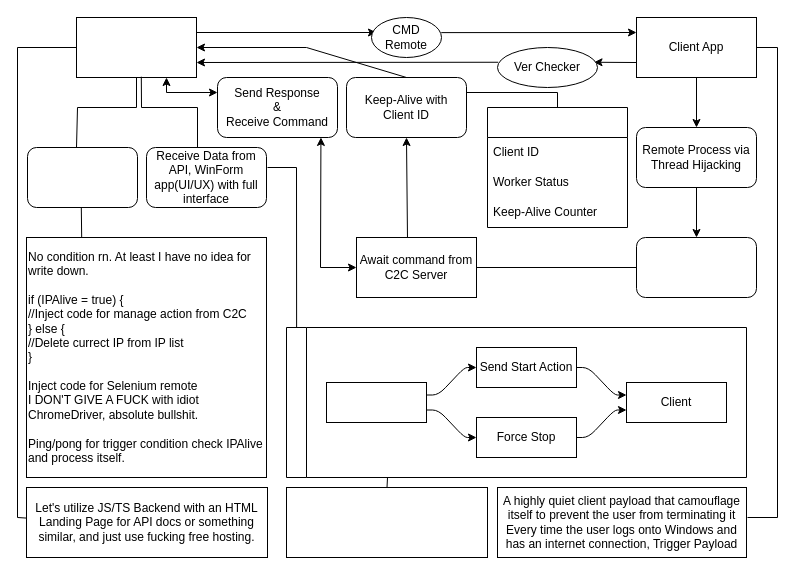
Image size: 796x575. Some labels were removed from this diagram. Each missing label, with the box of its shape:
(.NET Framework) >= 4.7.2 SQL or JSON or .txt Dataset Separate x32/x64 support: (286, 486, 488, 558)
C2C Server: (76, 16, 196, 78)
JSON Response: (486, 106, 628, 228)
Manage ID, Ping/pong response, request: (26, 146, 138, 208)
Server: (326, 382, 426, 422)
Trigger Payload, use schtask as startup method, hide process: (636, 236, 756, 298)
WinForm App: (286, 326, 746, 478)
